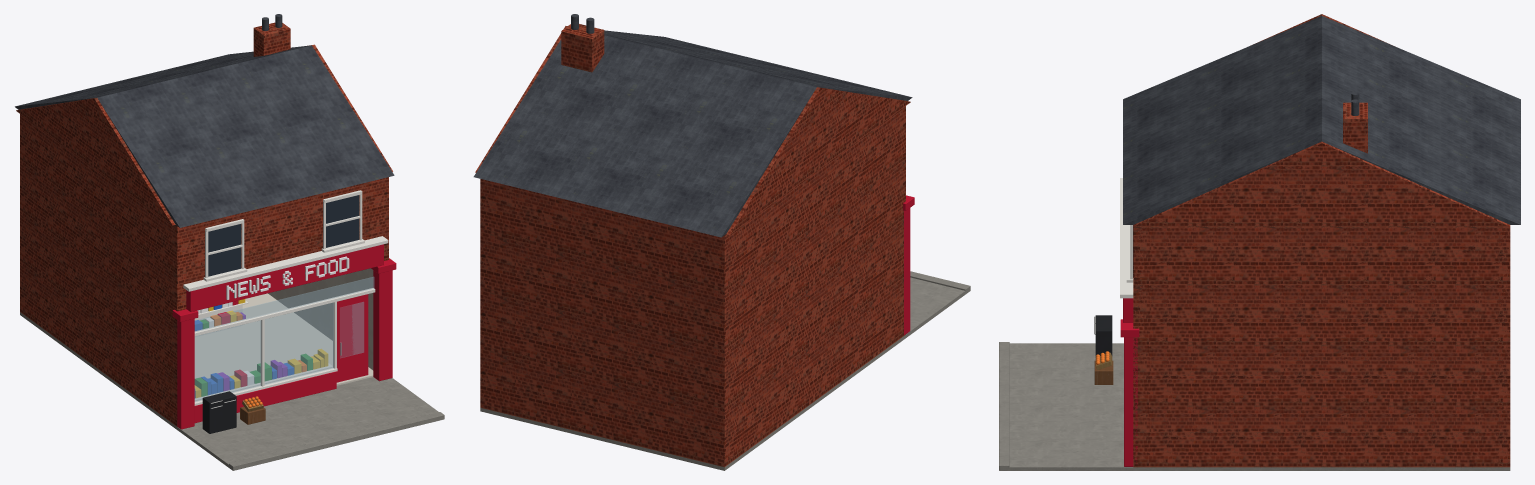
File: a-realistic-corner-shop-91557-realistic.glb
3 renders of one model, left to right at view 1: azimuth 30°, elevation 25°; view 2: azimuth 150°, elevation 25°; view 3: azimuth 270°, elevation 25°, orthographic. The views are drawn at different scales.
Visible parts, largest first — view 1: shop; view 2: shop; view 3: shop.
Boxes of the visible parts, bbox=[...] form: shop: bbox=[15, 14, 444, 470]; shop: bbox=[473, 14, 970, 470]; shop: bbox=[999, 14, 1520, 470].
Size of the model in its own units: 7.3 by 9.47 by 12.45.
Materials: 23 (9 with a texture image).
